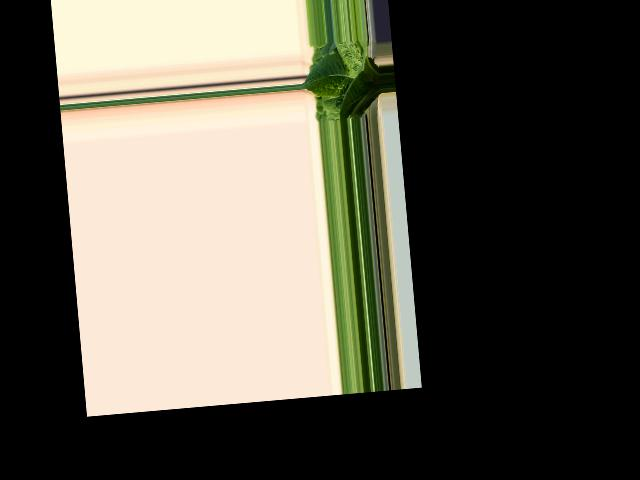lettuce: (306, 46, 383, 121)
